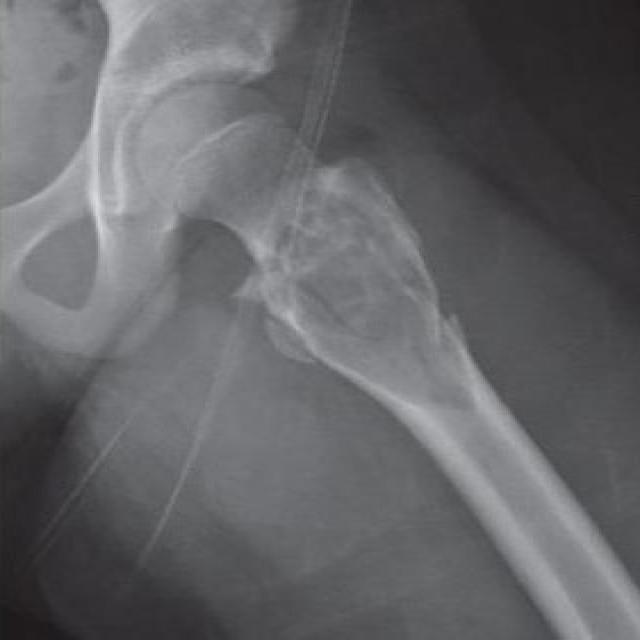pathological: (191, 160, 514, 451)
